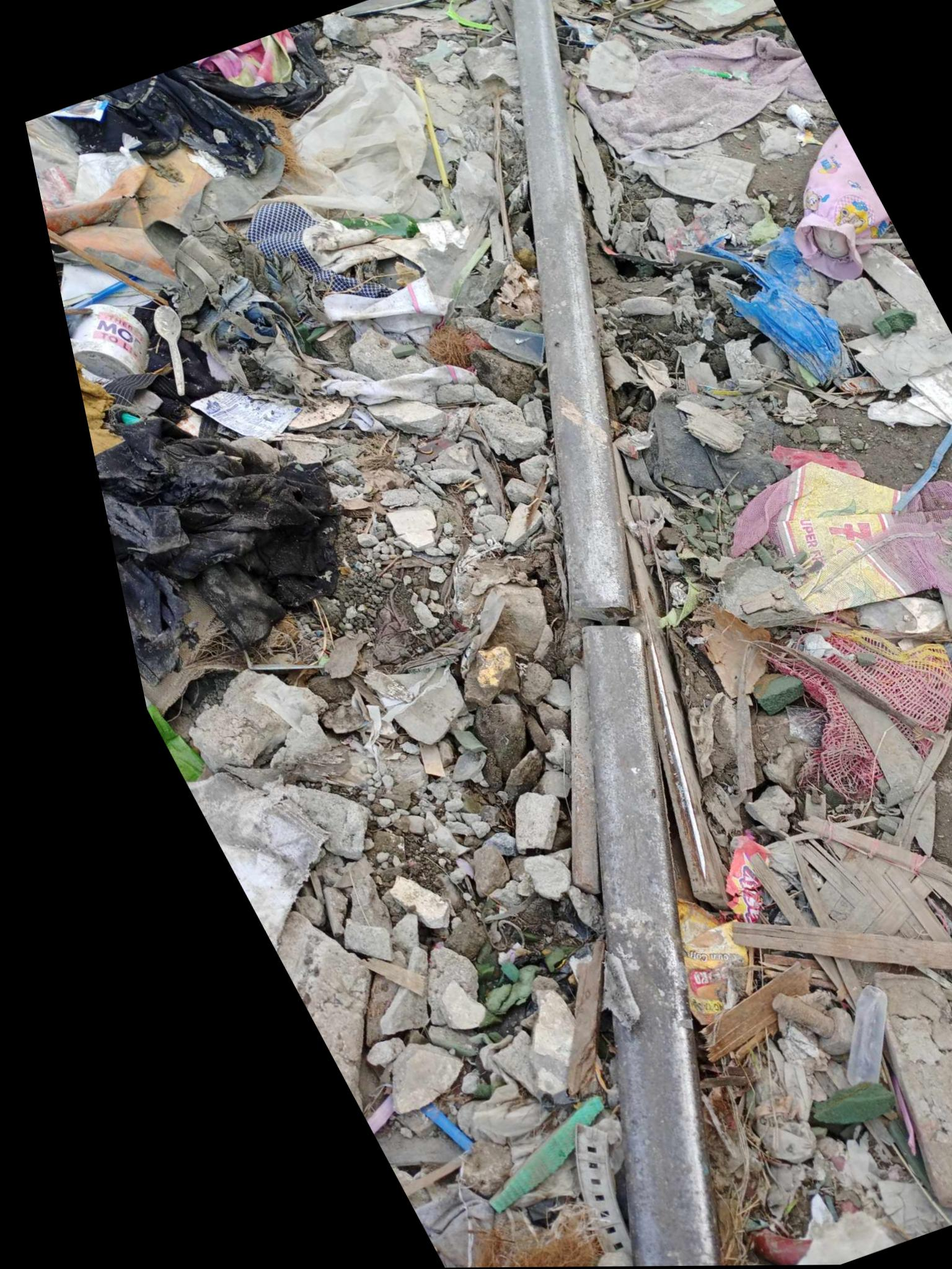person: (472, 537, 681, 718)
